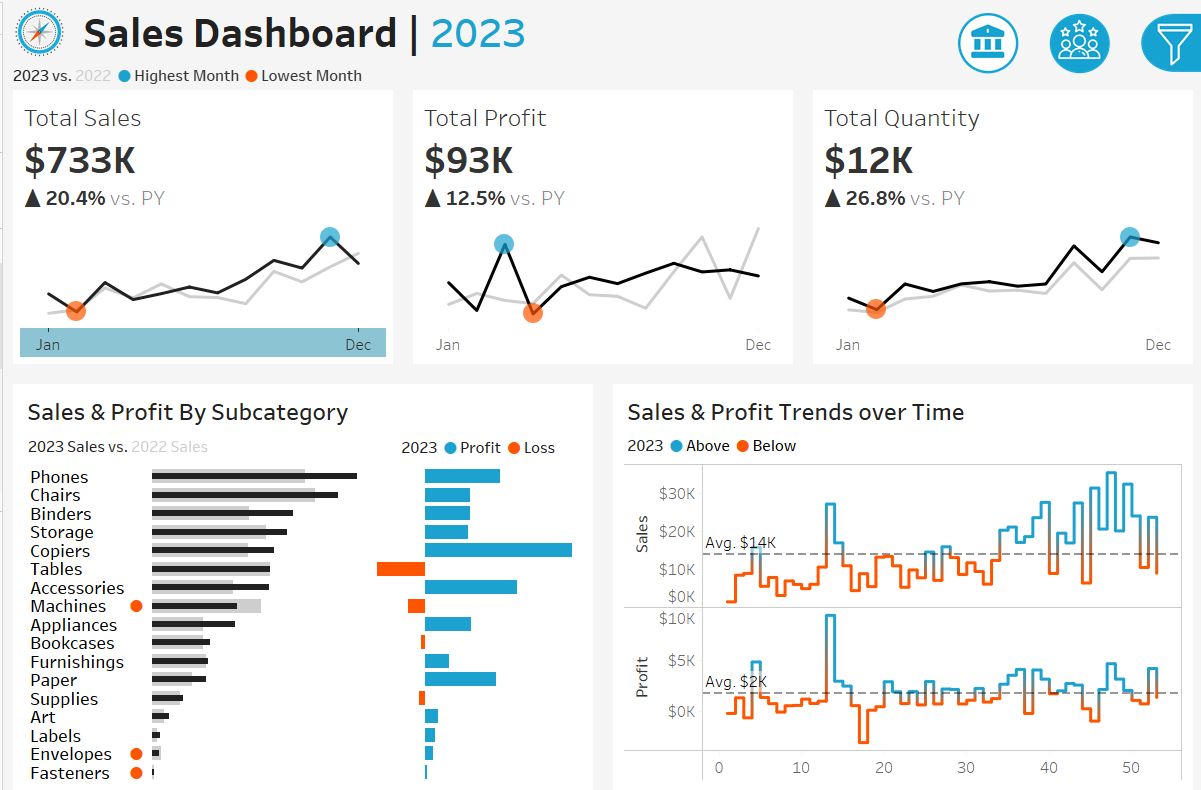

The dashboard page shown, as its layout file describes it:
{"tool":"tableau","page":{"name":"Sales Dashboard","canvas":[1200,800],"ordinal":1},"visuals":[{"type":"image","param":"Image/Icon - Logo.png","box":[0,0,73,59]},{"type":"text","box":[73,0,820,59]},{"type":"dashboard-object","box":[940,6,91,70]},{"type":"dashboard-object","box":[1031,6,91,70]},{"type":"blank","box":[952,10,237,86]},{"type":"worksheet","title":"Legend KPI","mark":"Automatic","box":[0,59,1200,29]},{"type":"worksheet","title":"KPI Sales","mark":"Automatic","rows":["Calculation_721701895347843083"],"cols":["Order Date"],"box":[0,88,400,284]},{"type":"worksheet","title":"KPI Profit","mark":"Automatic","rows":["Min/Max Sales (copy)_237846410425847814"],"cols":["Order Date"],"box":[400,88,400,284]},{"type":"worksheet","title":"KPI Quantity","mark":"Automatic","rows":["Min/Max Sales (copy) (copy)_237846410425856007"],"cols":["Order Date"],"box":[800,88,400,284]},{"type":"text","box":[952,96,237,37]},{"type":"parameter","param":"[Parameters].[Parameter 1]","box":[952,133,237,55]},{"type":"text","box":[952,188,237,32]},{"type":"filter","title":"KPI Sales","param":"[federated.1kpxa041aiai2y1cl4pui1t4eju9].[none:Category:nk]","box":[952,220,237,57]},{"type":"filter","title":"KPI Sales","param":"[federated.1kpxa041aiai2y1cl4pui1t4eju9].[none:Sub-Category:nk]","box":[952,277,237,57]},{"type":"blank","box":[952,334,237,60]},{"type":"text","box":[17,389,566,40]},{"type":"text","box":[617,389,566,40]},{"type":"text","box":[952,394,237,32]},{"type":"filter","title":"KPI Sales","param":"[federated.1kpxa041aiai2y1cl4pui1t4eju9].[none:Region:nk]","box":[952,426,237,57]},{"type":"worksheet","title":"Legend Subcategory","mark":"Automatic","box":[17,429,374,32]},{"type":"text","box":[391,429,192,32]},{"type":"text","box":[617,429,566,29]},{"type":"worksheet","title":"Weekly Trends","mark":"Automatic","rows":["Calculation_721701895334993921","CY Sales (copy)_237846410424180736"],"cols":["Order Date"],"box":[617,458,566,325]},{"type":"worksheet","title":"Subcategory Comparison","mark":"Bar","rows":["Sub-Category","Calculation_2435040078806671369"],"cols":["CY Sales (copy)_721701895335804930","Calculation_721701895334993921","CY Sales (copy)_237846410424180736"],"box":[17,461,566,321.9]},{"type":"filter","title":"KPI Sales","param":"[federated.1kpxa041aiai2y1cl4pui1t4eju9].[none:State:nk]","box":[952,483,237,57]},{"type":"filter","title":"KPI Sales","param":"[federated.1kpxa041aiai2y1cl4pui1t4eju9].[none:City:nk]","box":[952,540,237,57]}]}

Visuals, with their boxes in screenshot pixels (x1, y1, x2, y2), scaled from the page's 1200x800 canvas onto the 1201x790 screenshot:
image: Rect(0, 0, 73, 58)
text: Rect(73, 0, 894, 58)
dashboard-object: Rect(941, 6, 1032, 75)
dashboard-object: Rect(1032, 6, 1123, 75)
blank: Rect(953, 10, 1190, 95)
"Legend KPI" worksheet: Rect(0, 58, 1200, 87)
"KPI Sales" worksheet: Rect(0, 87, 400, 367)
"KPI Profit" worksheet: Rect(400, 87, 801, 367)
"KPI Quantity" worksheet: Rect(801, 87, 1200, 367)
text: Rect(953, 95, 1190, 131)
parameter: Rect(953, 131, 1190, 186)
text: Rect(953, 186, 1190, 217)
"KPI Sales" filter: Rect(953, 217, 1190, 274)
"KPI Sales" filter: Rect(953, 274, 1190, 330)
blank: Rect(953, 330, 1190, 389)
text: Rect(17, 384, 583, 424)
text: Rect(618, 384, 1184, 424)
text: Rect(953, 389, 1190, 421)
"KPI Sales" filter: Rect(953, 421, 1190, 477)
"Legend Subcategory" worksheet: Rect(17, 424, 391, 455)
text: Rect(391, 424, 583, 455)
text: Rect(618, 424, 1184, 452)
"Weekly Trends" worksheet: Rect(618, 452, 1184, 773)
"Subcategory Comparison" worksheet (Bar marks): Rect(17, 455, 583, 773)
"KPI Sales" filter: Rect(953, 477, 1190, 533)
"KPI Sales" filter: Rect(953, 533, 1190, 590)
